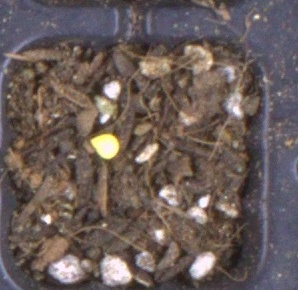chilli seed: (89, 133, 120, 160)
